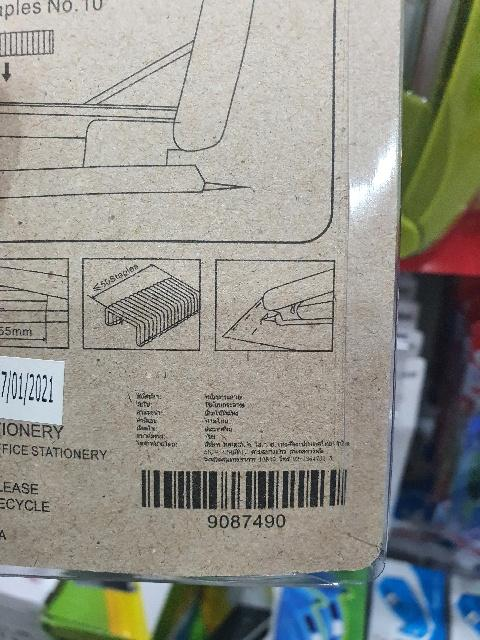Barcode: (135, 461, 358, 529)
